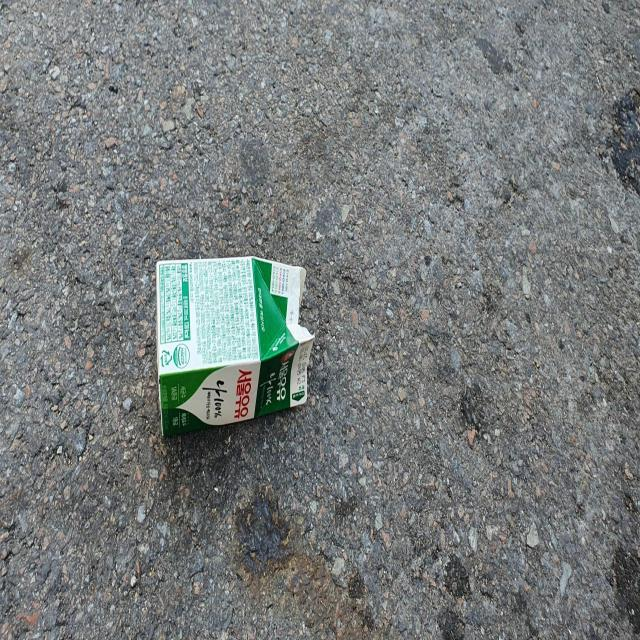paperpack: (155, 255, 314, 436)
